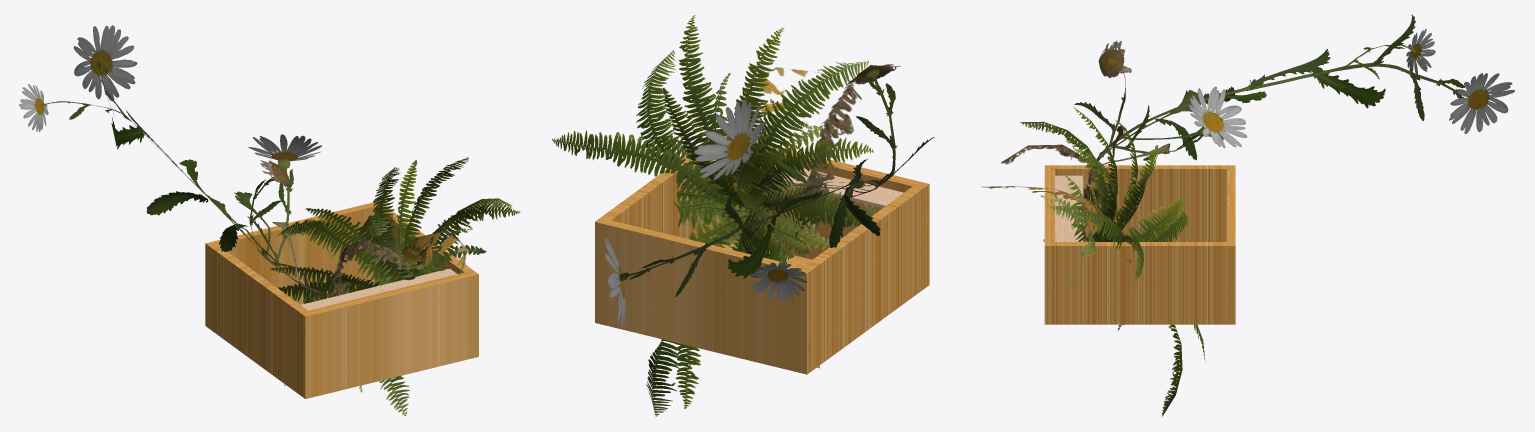
File: space.gltf
3 views of the same model, side by side, from view 1: azimuth 30°, elevation 25°; view 2: azimuth 150°, elevation 25°; view 3: azimuth 270°, elevation 25° (orthographic). The views are drawn at different scales.
Visible parts, largest first — view 1: Plane, Plane026_Material #47_0, Plane068_Material #48_0, Cube, Plane051_Material #47_0, Plane054_Material #47_0; view 2: Plane, Plane026_Material #47_0, Plane068_Material #48_0, Plane051_Material #47_0, Cube, Plane054_Material #47_0; view 3: Plane, Plane068_Material #48_0, Plane026_Material #47_0, Cube, Plane051_Material #47_0, Plane054_Material #47_0.
Part boxes in pixels (x1=…): Plane: x1=205, y1=201, x2=478, y2=398; Plane026_Material #47_0: x1=270, y1=157, x2=520, y2=416; Plane068_Material #48_0: x1=19, y1=25, x2=336, y2=297; Cube: x1=301, y1=268, x2=457, y2=310; Plane051_Material #47_0: x1=331, y1=239, x2=413, y2=295; Plane054_Material #47_0: x1=373, y1=231, x2=468, y2=285; Plane: x1=595, y1=135, x2=929, y2=374; Plane026_Material #47_0: x1=552, y1=15, x2=875, y2=416; Plane068_Material #48_0: x1=604, y1=64, x2=934, y2=327; Plane051_Material #47_0: x1=794, y1=83, x2=861, y2=239; Cube: x1=710, y1=158, x2=903, y2=207; Plane054_Material #47_0: x1=726, y1=67, x2=821, y2=229; Plane: x1=1044, y1=165, x2=1235, y2=324; Plane068_Material #48_0: x1=1074, y1=14, x2=1514, y2=200; Plane026_Material #47_0: x1=1020, y1=106, x2=1205, y2=416; Cube: x1=1055, y1=175, x2=1083, y2=241; Plane051_Material #47_0: x1=1001, y1=144, x2=1108, y2=214; Plane054_Material #47_0: x1=981, y1=186, x2=1114, y2=239.
Size of the model in its own units: 4.13 by 3.62 by 5.79.
Materials: 6 (6 with a texture image).
